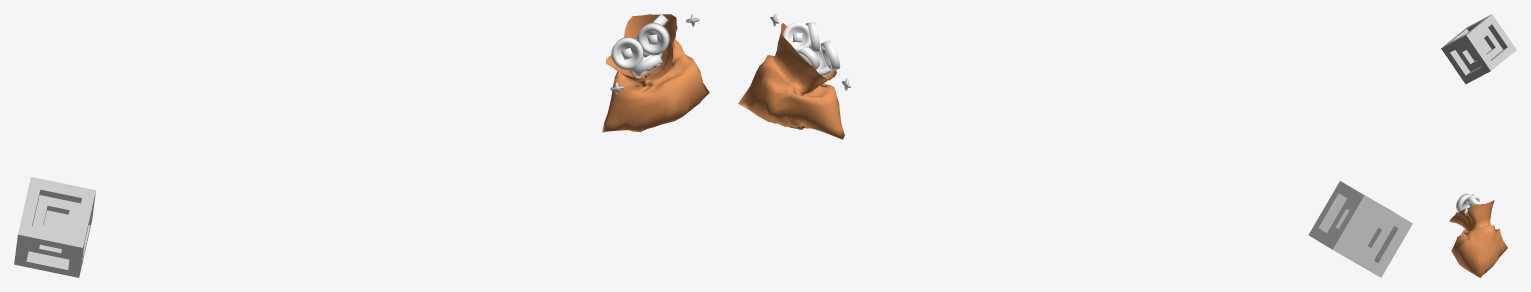
Rendered from frontops.glb.
The picture shows the model from 3 angles, left to right: view 1: azimuth 30°, elevation 25°; view 2: azimuth 150°, elevation 25°; view 3: azimuth 270°, elevation 25°; orthographic projection. The views are drawn at different scales.
Parts seen in each view (by area): view 1: Roundcube, Cube.004, Cylinder.004, Cylinder.002; view 2: Roundcube, Cube.004, Cylinder.003; view 3: Cube.004, Roundcube, Cylinder.002, Cylinder.003.
Boxes of the visible parts, x1,y1,x2,y2 form: Roundcube: [602, 14, 709, 132]; Cube.004: [14, 177, 95, 277]; Cylinder.004: [611, 37, 643, 69]; Cylinder.002: [637, 22, 669, 55]; Roundcube: [738, 23, 844, 139]; Cube.004: [1308, 181, 1412, 277]; Cylinder.003: [783, 22, 811, 52]; Cube.004: [1441, 14, 1516, 84]; Roundcube: [1449, 200, 1507, 277]; Cylinder.002: [1456, 193, 1473, 212]; Cylinder.003: [1466, 196, 1480, 206].
Bounding box in the file's own units: 43.35 × 6.81 × 6.15.
